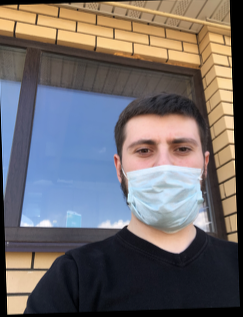with_mask: (122, 128, 203, 235)
